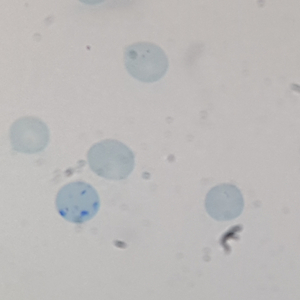aggregate reticulocyte: (53, 180, 102, 225)
erythrocyte: (85, 138, 138, 183), (6, 115, 52, 156), (202, 182, 246, 223)
punctate reticulocyte: (120, 40, 171, 84)
